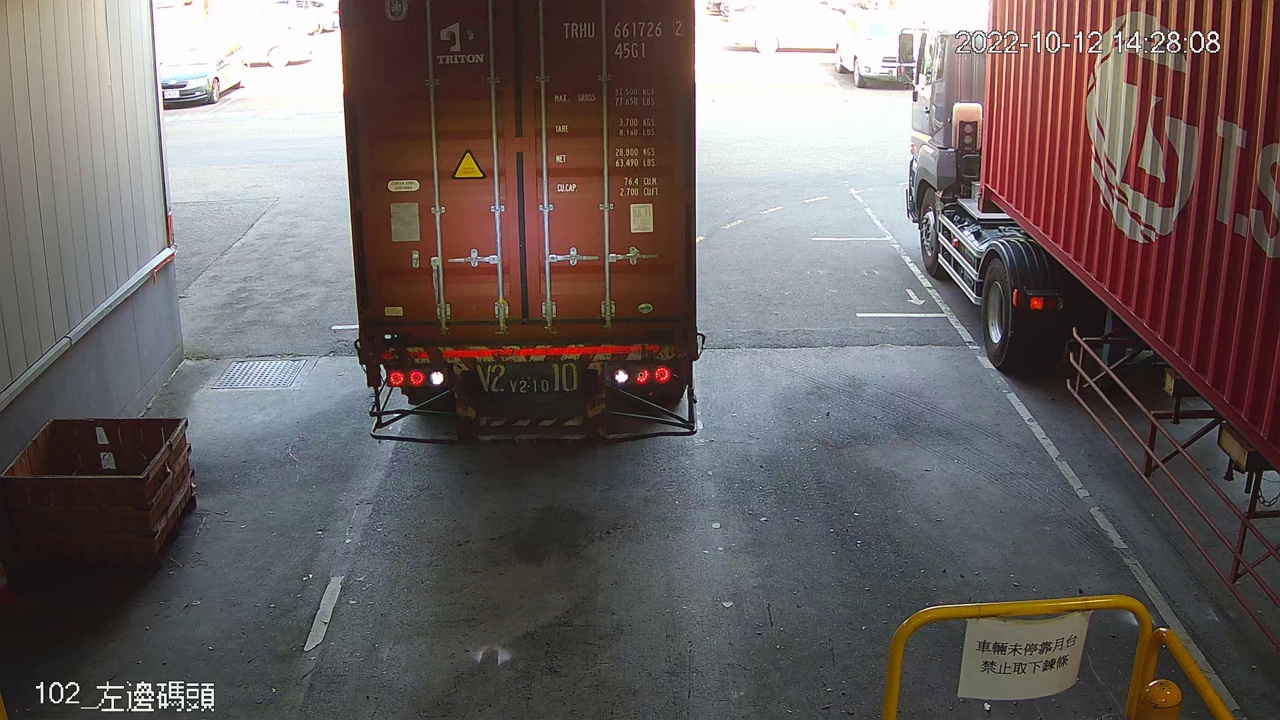container: (555, 12, 688, 65)
